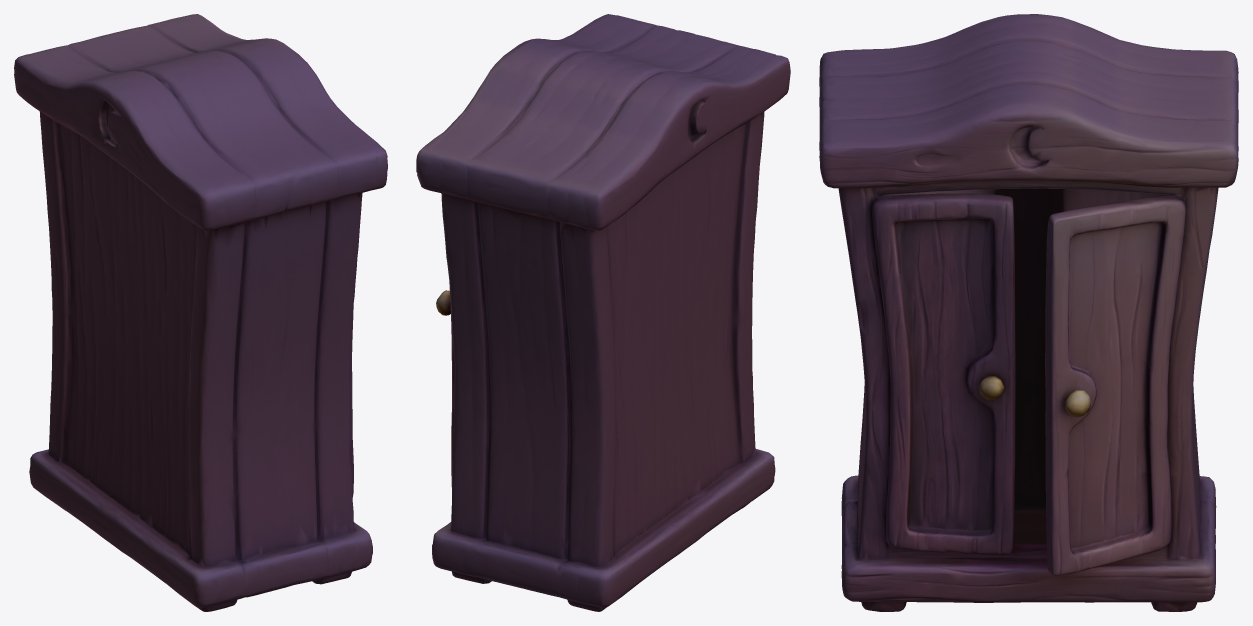
Rendered from wardrobe.glb.
The picture shows the model from 3 angles, left to right: view 1: azimuth 30°, elevation 25°; view 2: azimuth 150°, elevation 25°; view 3: azimuth 270°, elevation 25°; orthographic projection. The views are drawn at different scales.
Visible parts, largest first — view 1: tripo_node_f1f79231-f60c-4e83-88d1-6842b0fda903; view 2: tripo_node_f1f79231-f60c-4e83-88d1-6842b0fda903; view 3: tripo_node_f1f79231-f60c-4e83-88d1-6842b0fda903.
Part boxes in pixels (x1=…): tripo_node_f1f79231-f60c-4e83-88d1-6842b0fda903: x1=14, y1=14, x2=387, y2=611; tripo_node_f1f79231-f60c-4e83-88d1-6842b0fda903: x1=416, y1=14, x2=790, y2=611; tripo_node_f1f79231-f60c-4e83-88d1-6842b0fda903: x1=819, y1=14, x2=1238, y2=611.
Size of the model in its own units: 0.5247 by 1 by 0.7403.
1 material, 1 textured.
